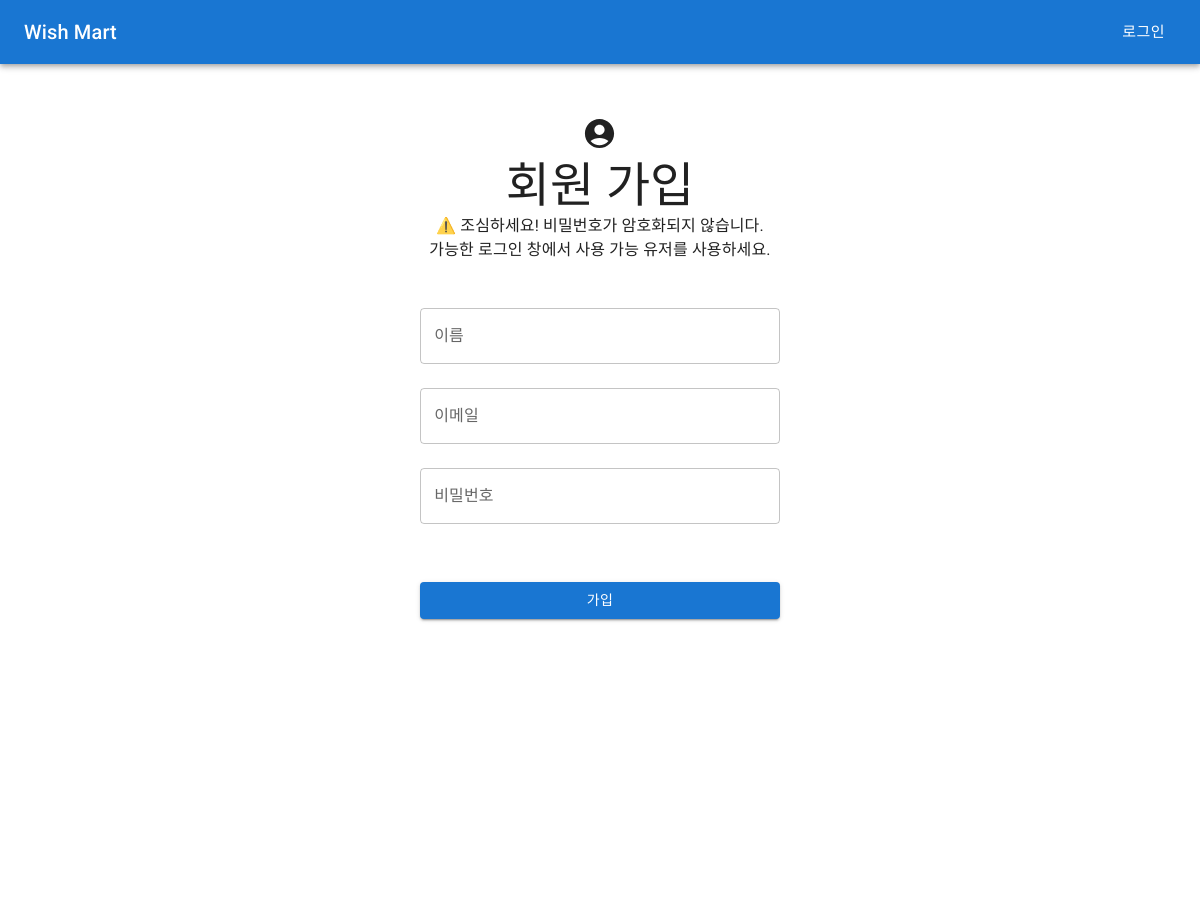
Scenario: 이름을 입력하지 않고 가입 버튼을 누를 경우 "이름을 입력하세요" 경고 메세지가 노출된다
Click the button "가입". click: (600, 601)
box: [420,582,780,619]
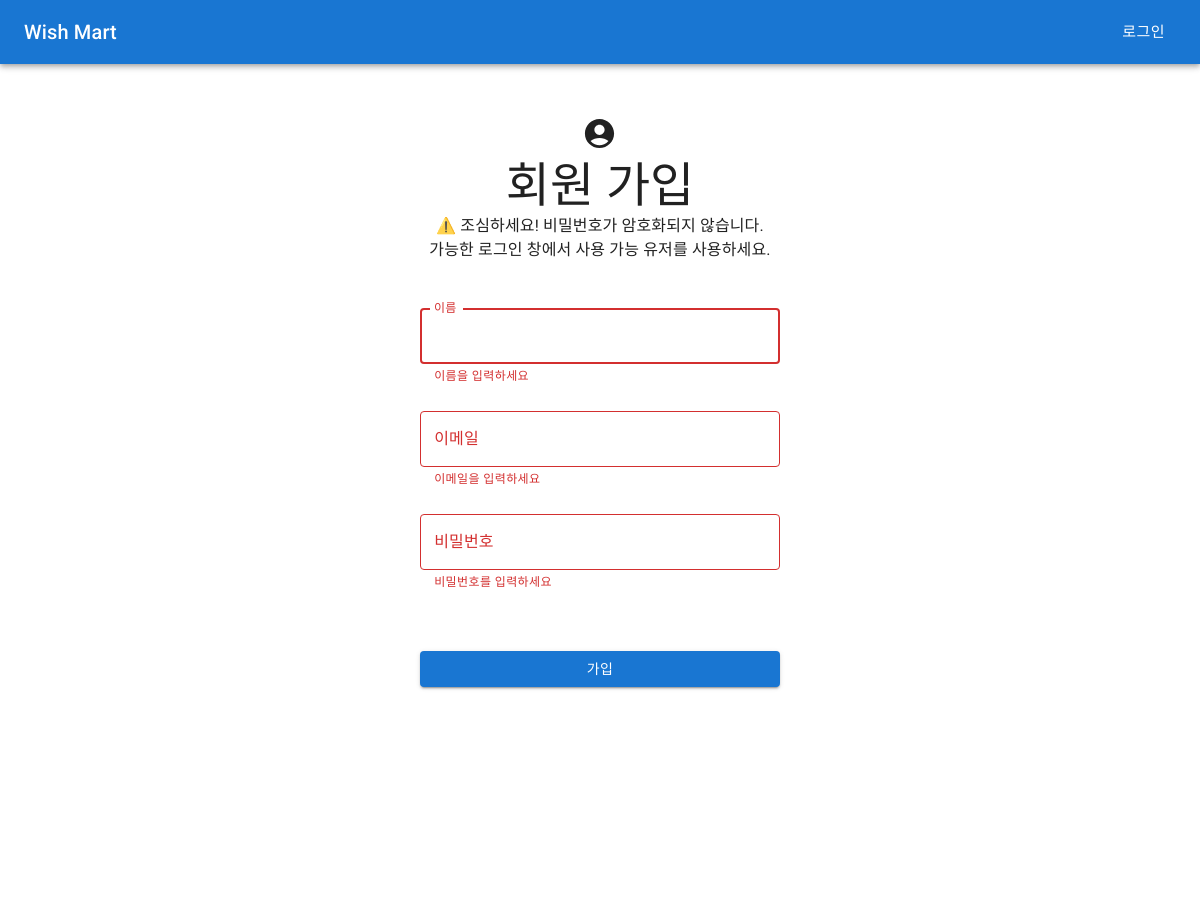
Now the text "이름을 입력하세요" is shown, box [434,369,529,383]
